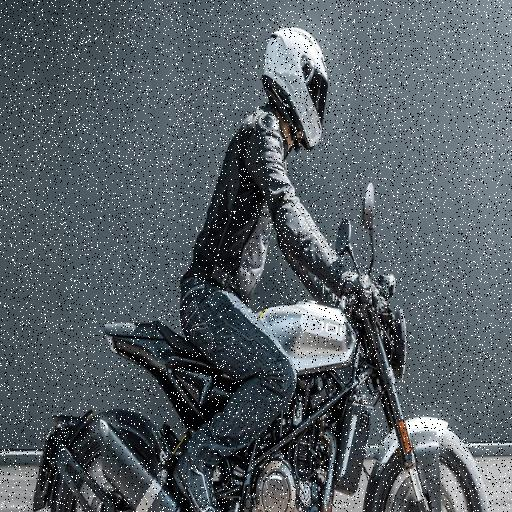Helmet: (250, 16, 340, 148)
Motor: (1, 314, 497, 512)
